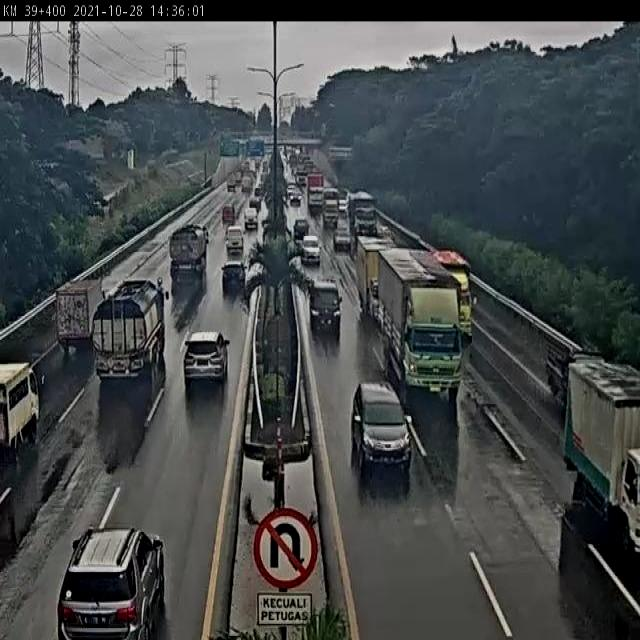Car: (55, 514, 177, 640), (350, 382, 411, 498), (182, 330, 229, 390), (306, 276, 342, 344), (221, 260, 247, 298), (332, 224, 354, 254), (301, 234, 321, 266), (292, 216, 310, 239), (287, 190, 303, 210)
Truck: (372, 240, 472, 402), (565, 358, 640, 556), (83, 274, 171, 388), (50, 261, 106, 347), (544, 332, 607, 408), (352, 232, 392, 309), (164, 224, 215, 274), (348, 186, 387, 241), (322, 185, 341, 228), (308, 175, 324, 212)
Van: (0, 362, 42, 459), (224, 224, 246, 256), (218, 204, 238, 234), (244, 208, 259, 230)
